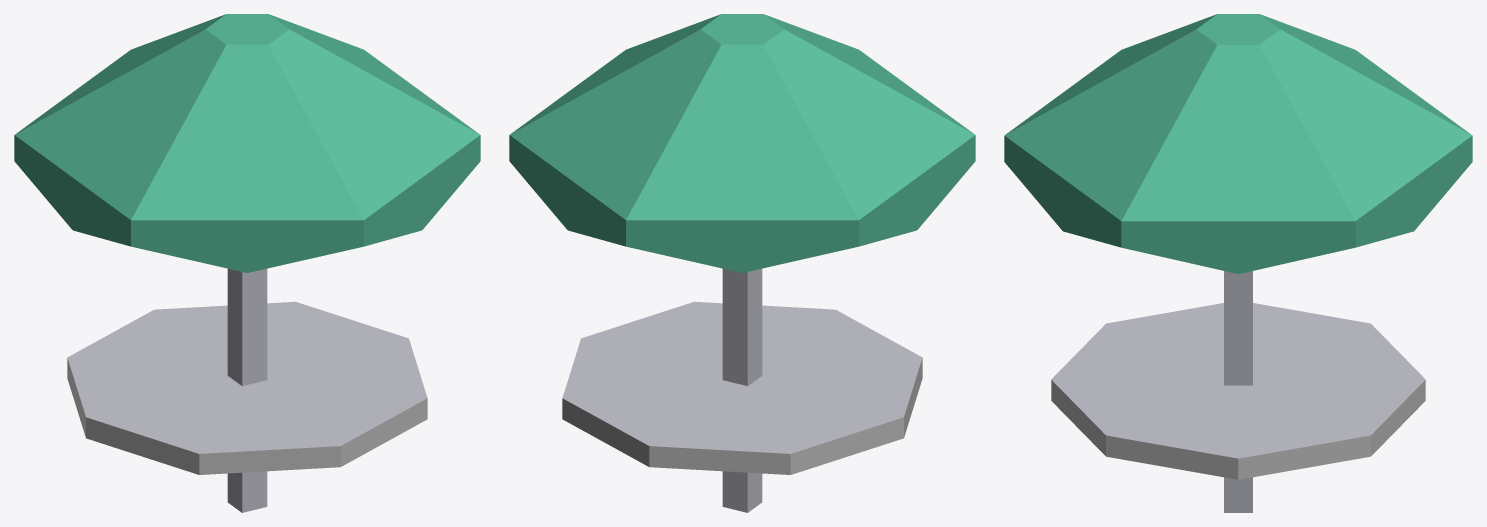
File: detail_umbrellaDetailed.obj
The picture shows the model from 3 angles, left to right: view 1: azimuth 30°, elevation 25°; view 2: azimuth 150°, elevation 25°; view 3: azimuth 270°, elevation 25°; orthographic projection.
Visible parts, largest first — view 1: detail_umbrellaDetailed; view 2: detail_umbrellaDetailed; view 3: detail_umbrellaDetailed.
Part boxes in pixels (x1,y1,x2,y2): detail_umbrellaDetailed: (14, 14, 480, 512); detail_umbrellaDetailed: (509, 14, 975, 512); detail_umbrellaDetailed: (1004, 14, 1472, 512).
Bounding box in the file's own units: 0.3464 × 0.45 × 0.4.
